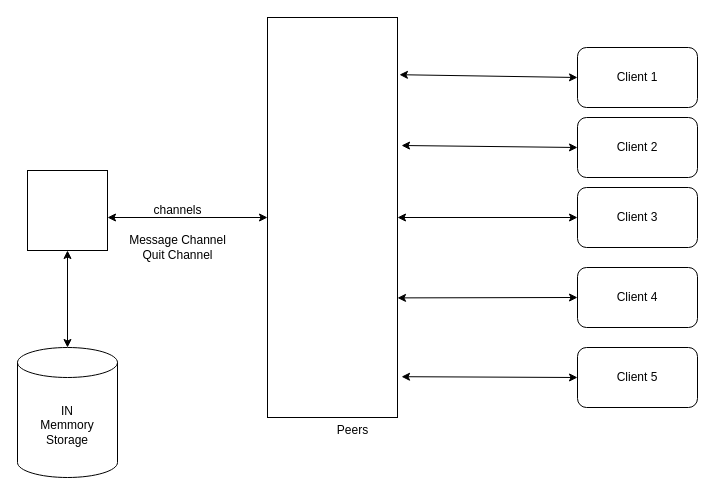
Image size: 715x495. Some labels were removed from this diagram. Each missing label, with the centre of its shape:
Peer 1 Peer 2 Peer 3 Peer4 Peer5: the point at 332,217
Server: the point at 67,210
